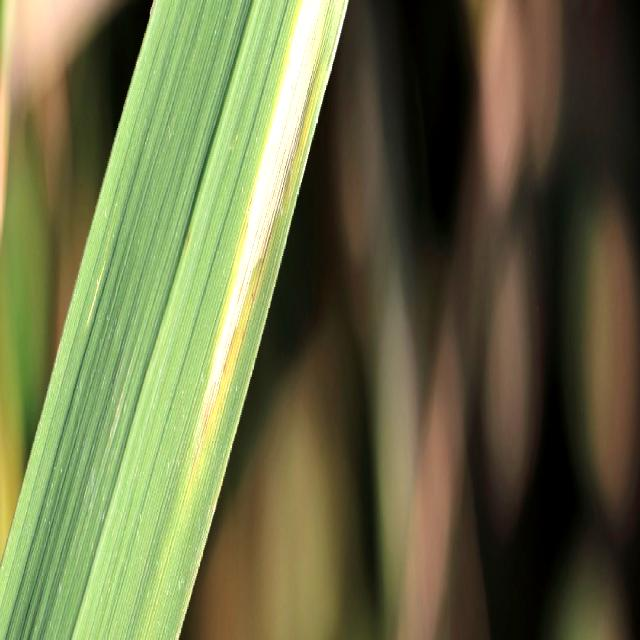BLB: (203, 0, 325, 433)
